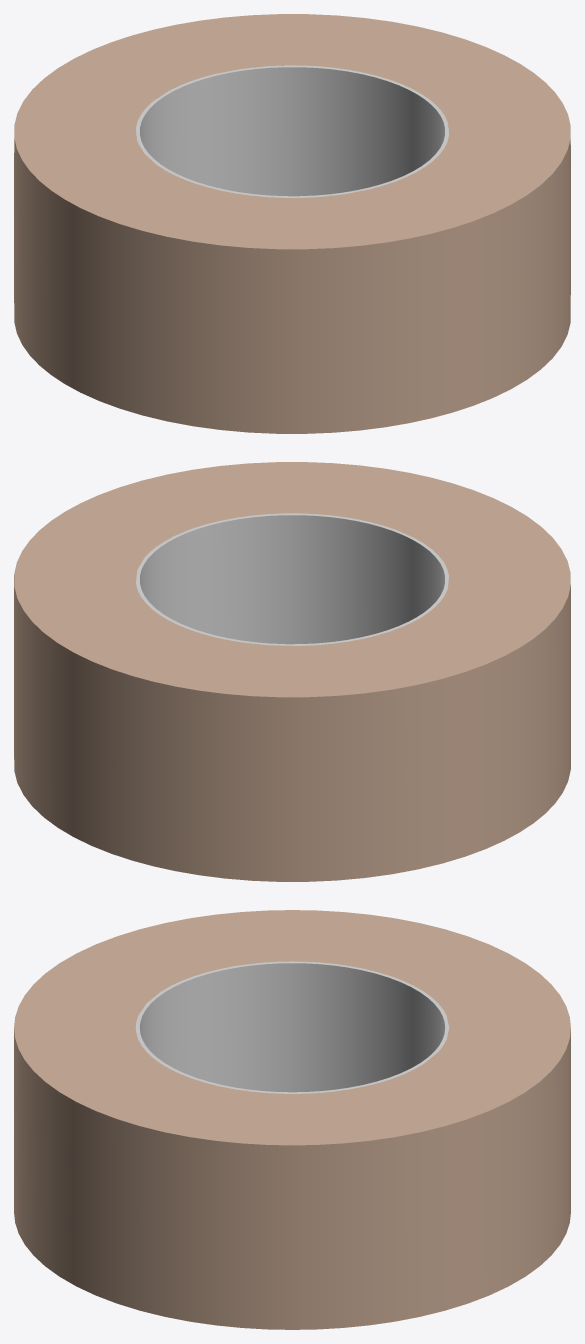
File: ガムテープ.fbx
3 views of the same model, one above another, from view 1: azimuth 30°, elevation 25°; view 2: azimuth 150°, elevation 25°; view 3: azimuth 270°, elevation 25° (orthographic).
Parts seen in each view (by area): view 1: Body1; view 2: Body1; view 3: Body1.
Boxes of the visible parts, bbox=[...] form: Body1: bbox=[14, 14, 570, 433]; Body1: bbox=[14, 462, 570, 881]; Body1: bbox=[14, 910, 570, 1329].
Size of the model in its own units: 13.68 by 5 by 13.68.
